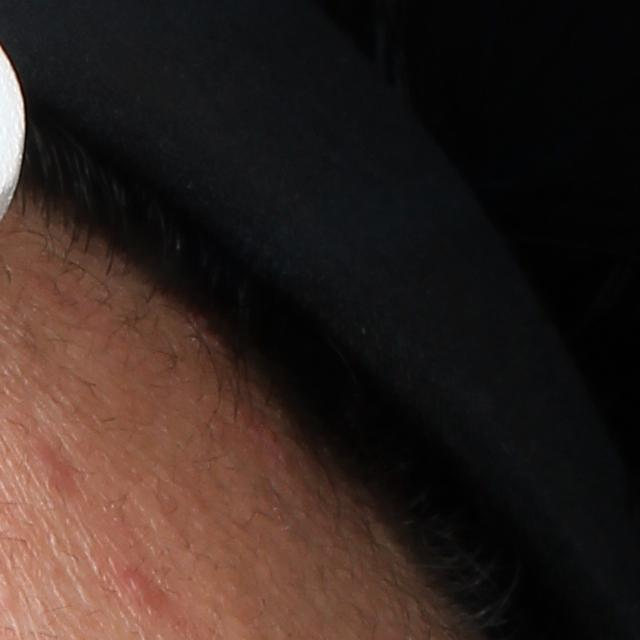papule: (22, 436, 76, 490), (118, 562, 157, 612)
